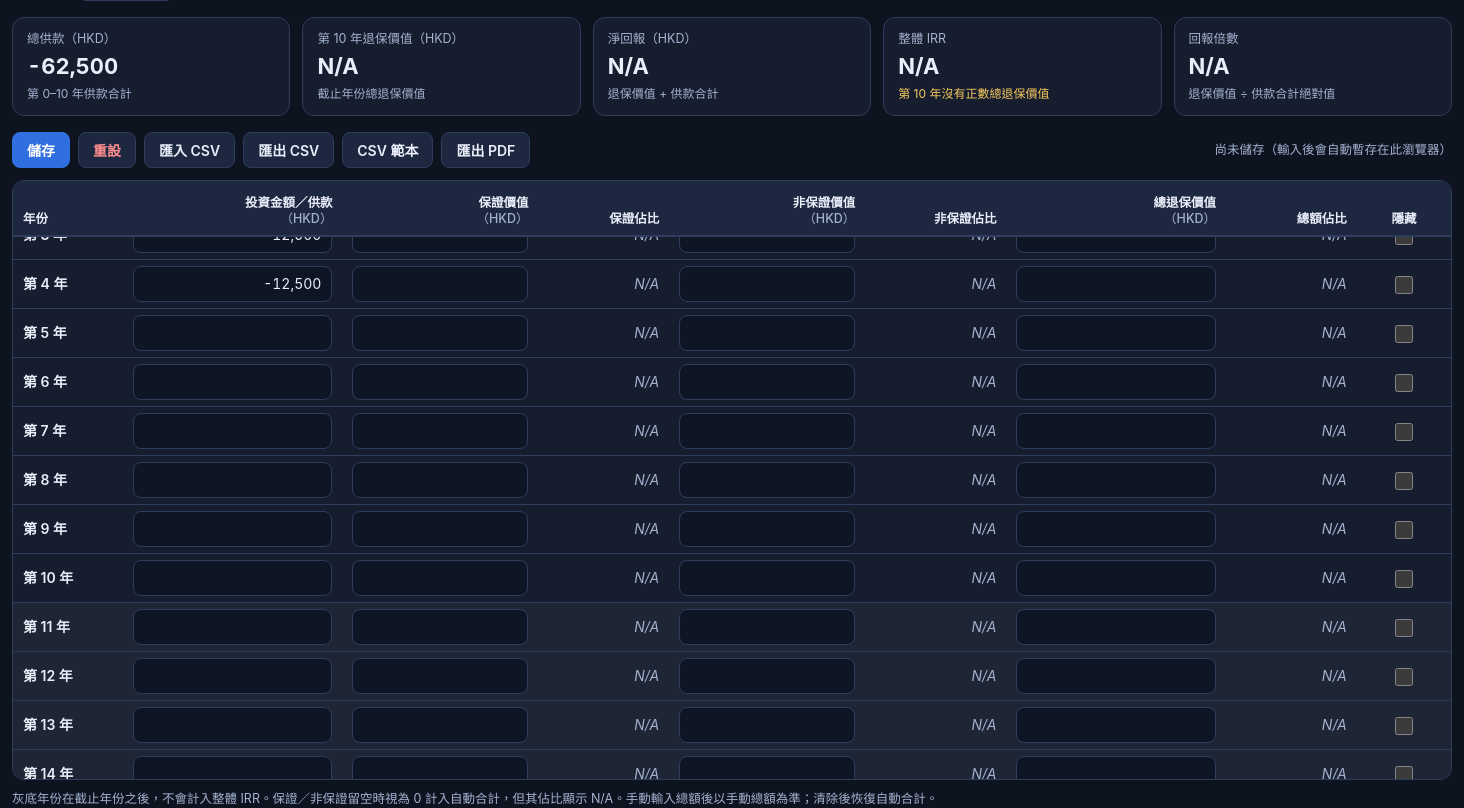
Test: overall latest positive valuation year › updates all summary cards for years 8 and 9, then falls back after clearing year 9
Earlier steps of the test are not shown.
(page scrolled)
Type "55631" into the field named "第 8 年 保證價值（HKD）". click: (440, 480)
box: [352, 462, 528, 498]
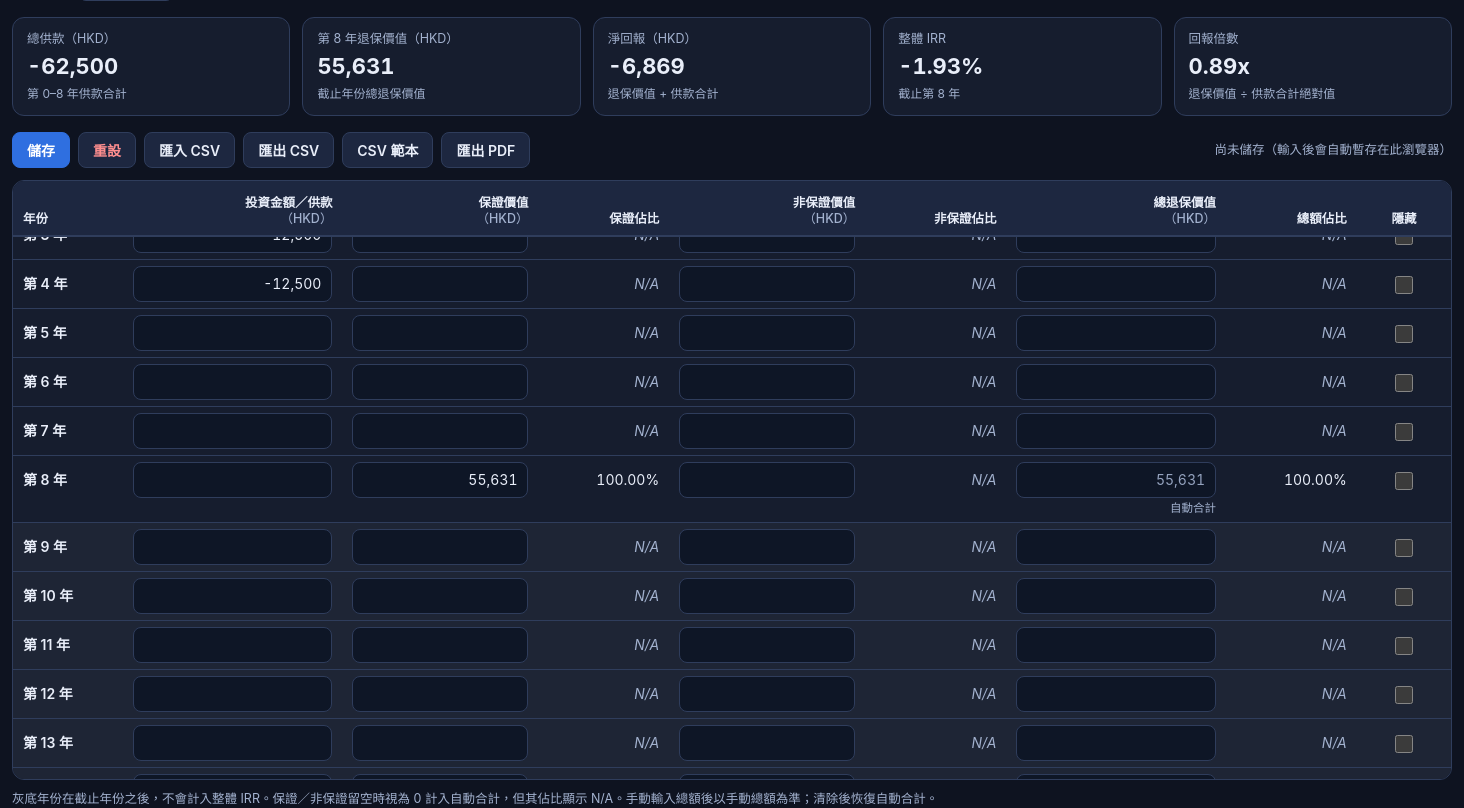
Type "12813" into the field named "第 8 年 非保證價值（HKD）". click: (767, 480)
box: [679, 462, 855, 498]
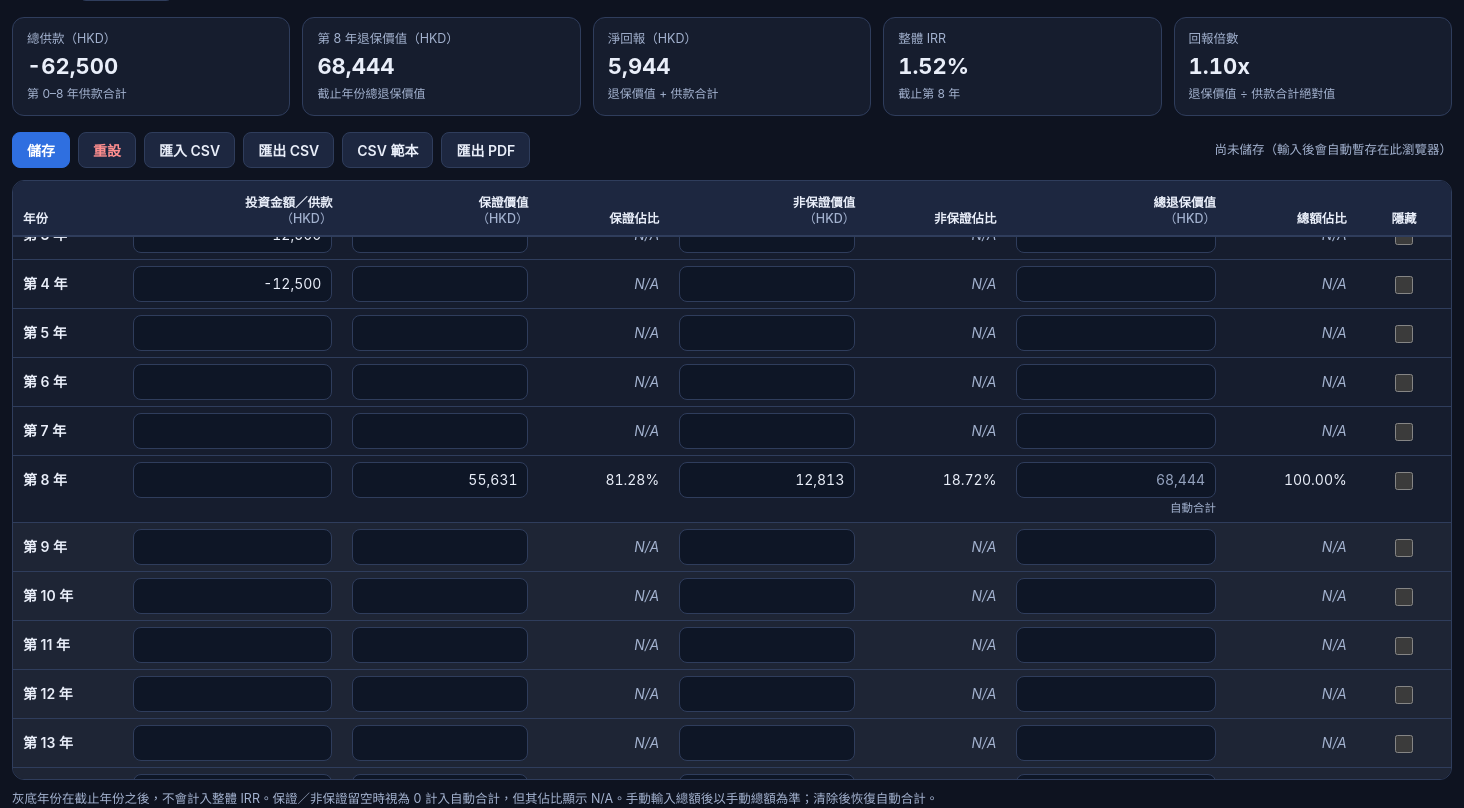
Type "56360" into the field named "第 9 年 保證價值（HKD）". click: (440, 547)
box: [352, 529, 528, 565]
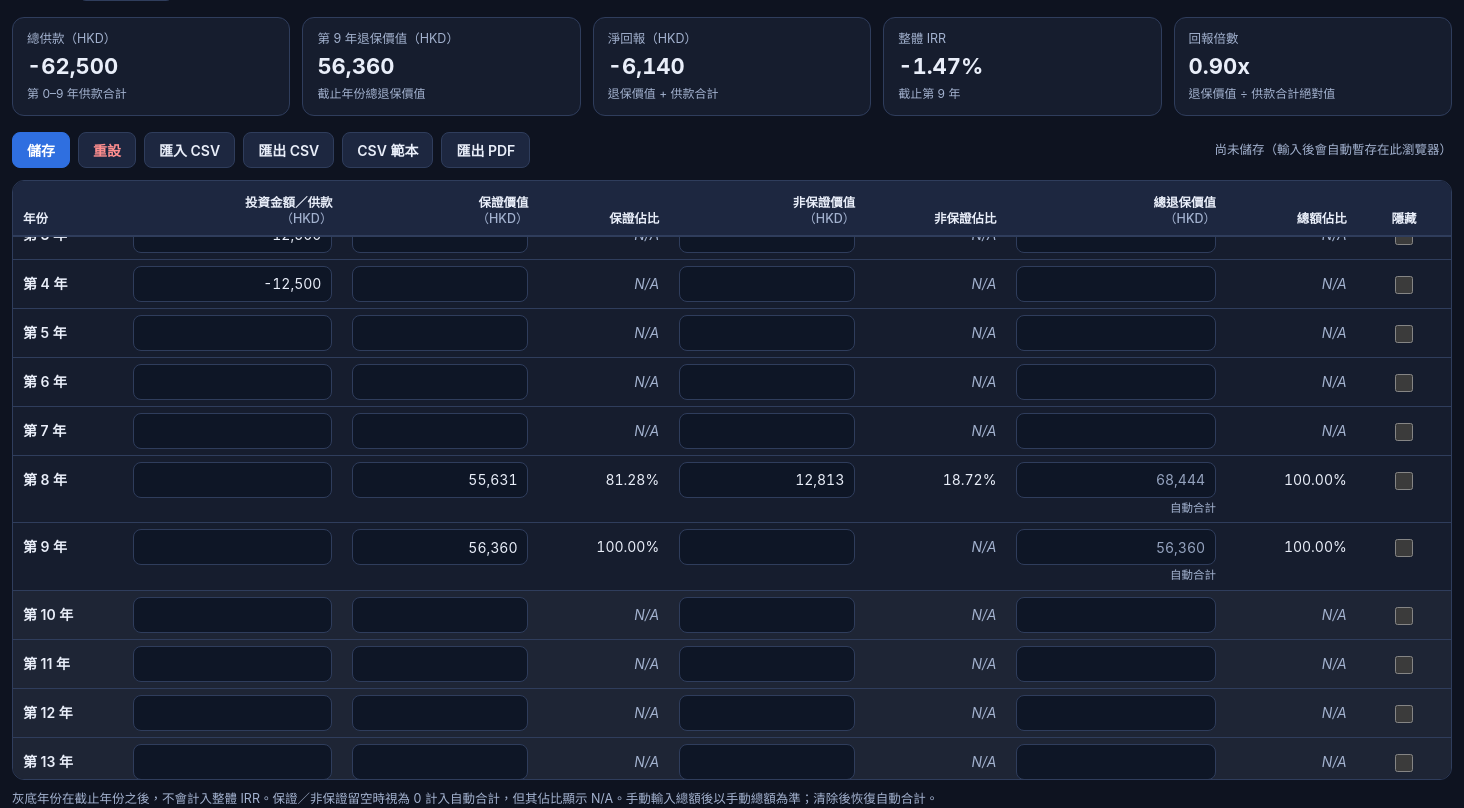
Type "16563" into the field named "第 9 年 非保證價值（HKD）". click: (767, 547)
box: [679, 529, 855, 565]
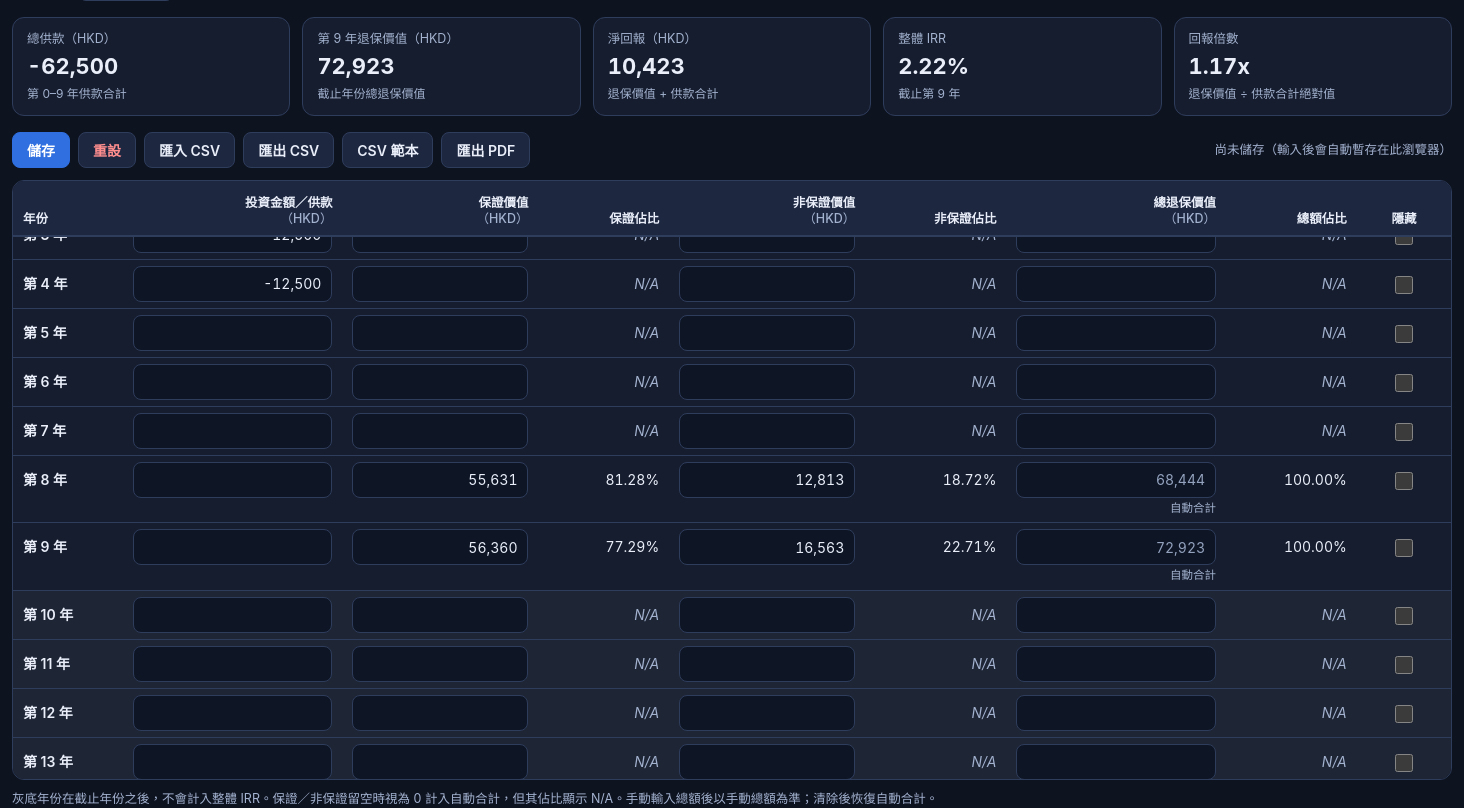
Result: the text with test id "card-value-surrender" reads "72,923" at [317, 53, 394, 79]
Result: the text with test id "card-value-net-return" reads "10,423" at [608, 53, 685, 79]
Result: the text with test id "card-value-overall-irr" reads "2.22%" at [898, 53, 969, 79]
Clear the field named "第 9 年 保證價值（HKD）". click: (440, 547)
box: [352, 529, 528, 565]
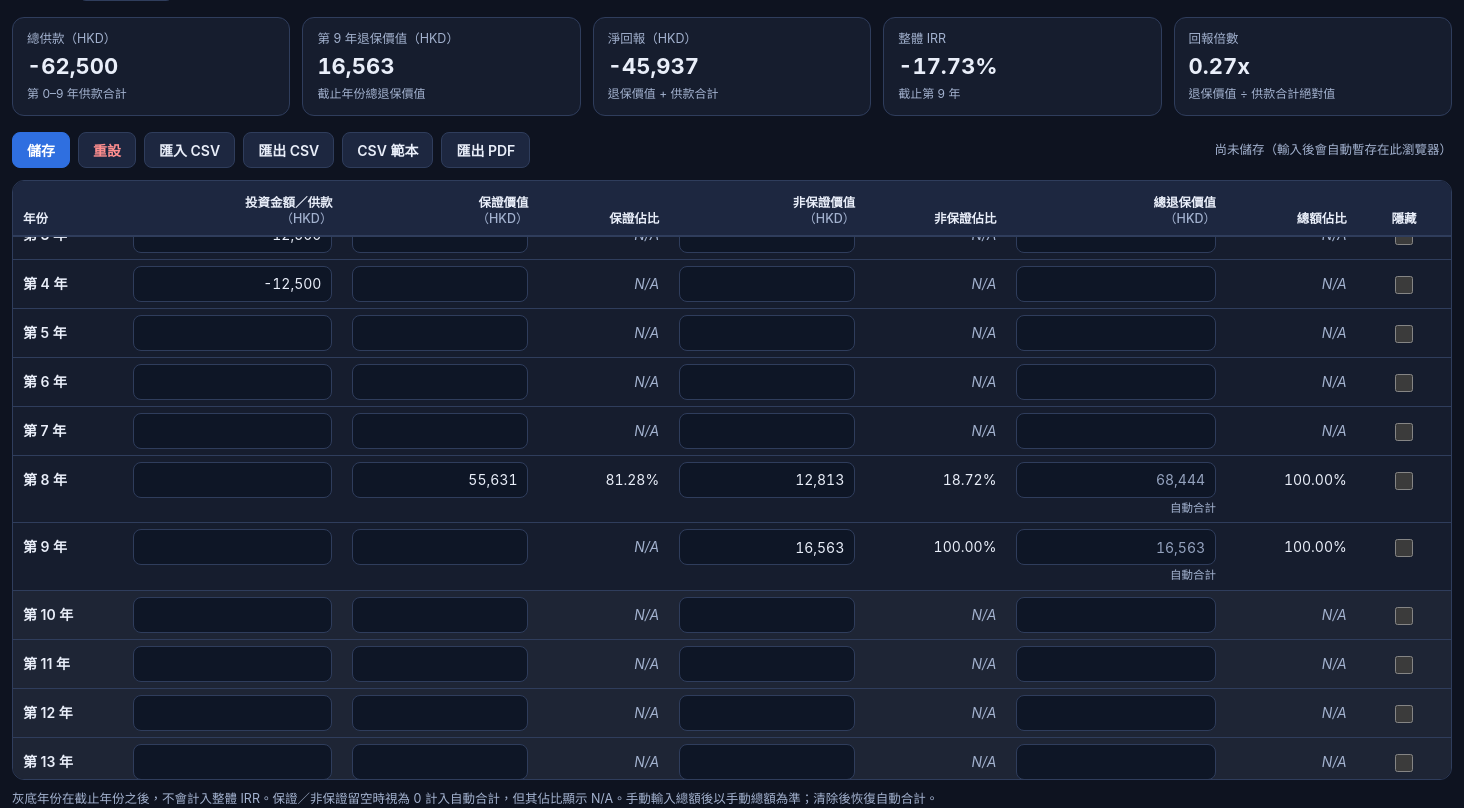
Clear the field named "第 9 年 非保證價值（HKD）". click: (767, 547)
box: [679, 529, 855, 565]
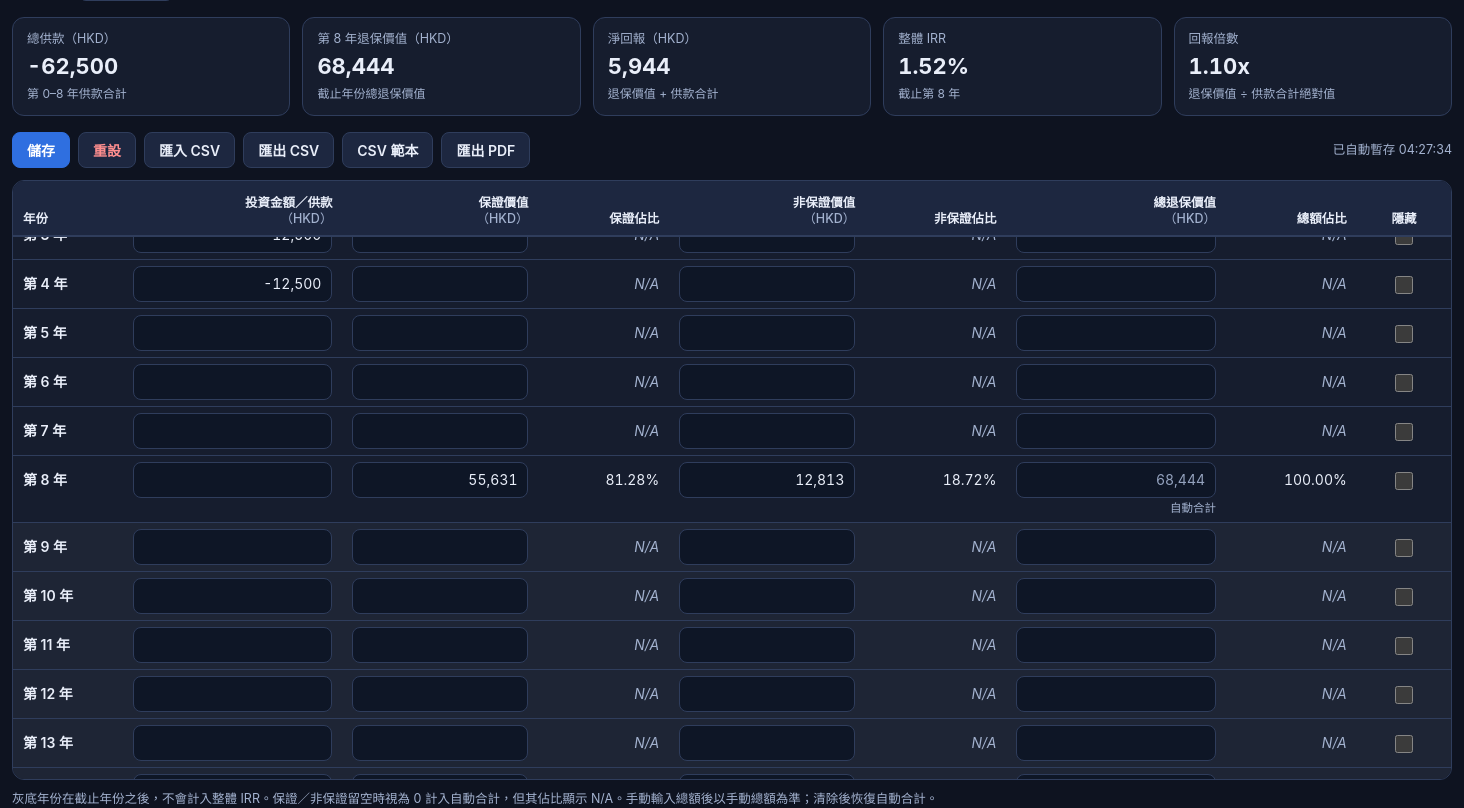
Result: the text with test id "card-value-surrender" reads "68,444" at [317, 53, 394, 79]
